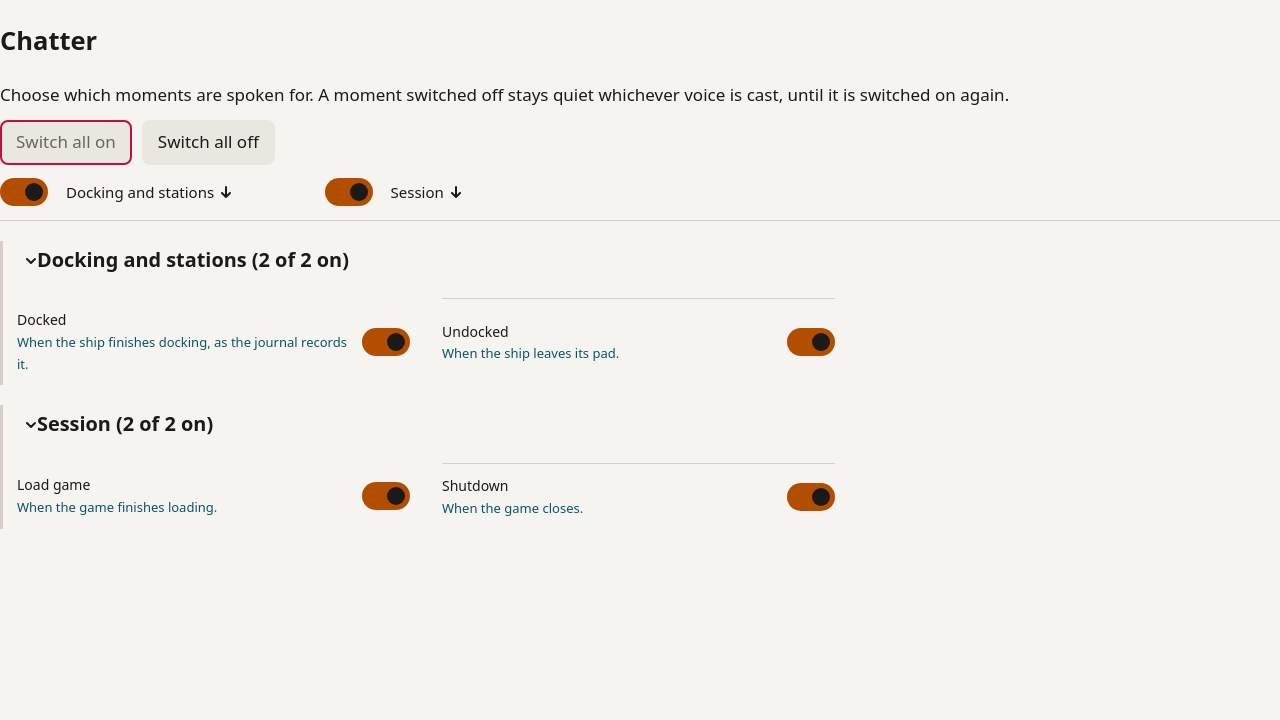
Test: the chatter pane › names the category a question about it changes
expect the switch named "Docked" is shown: met, box [362,328,410,356]
Click the switch named "Docking and stations".
click(24, 192)  # box [0,178,48,206]
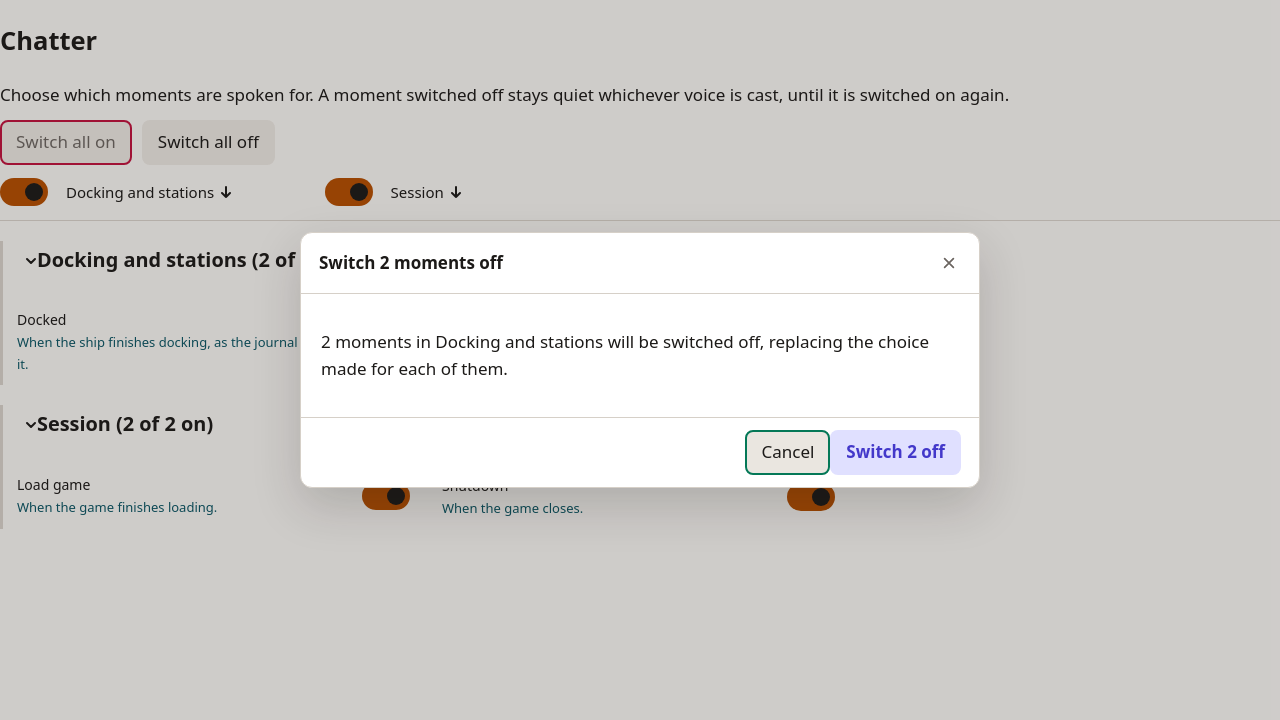
expect the dialog "Switch 2 moments off" shows "2 moments in Docking and stations will be switched off": met, box [321,330,929,380]
